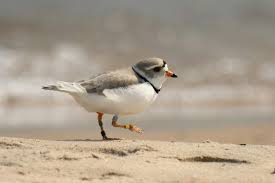Walking: (34, 44, 191, 140)
